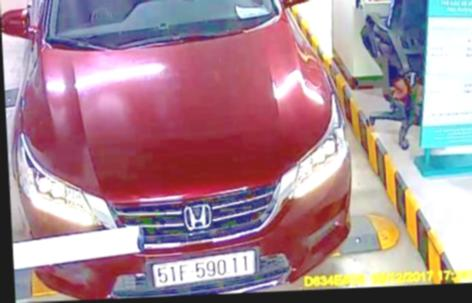License_Plate: (147, 248, 258, 285)
